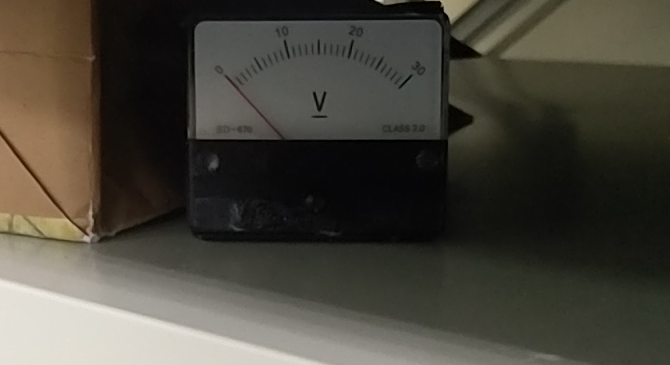Volt_Meter: (196, 16, 444, 144)
